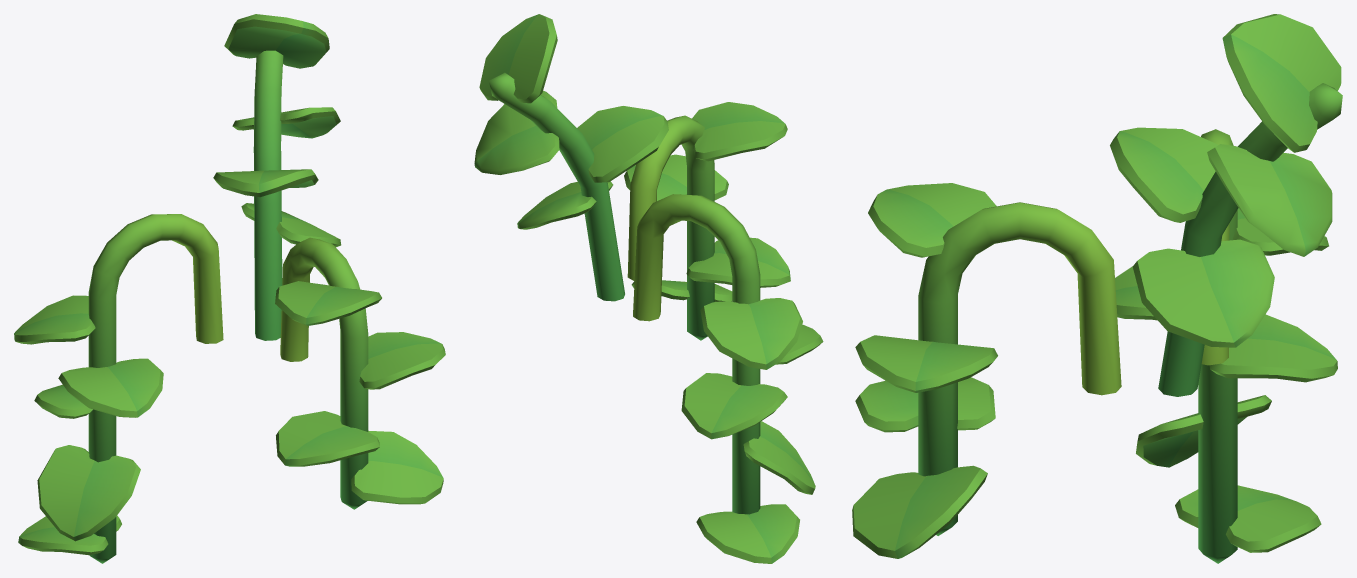
Rendered from Pothos Plant Small-QqbCvErL93.glb.
3 renders of one model, left to right at view 1: azimuth 30°, elevation 25°; view 2: azimuth 150°, elevation 25°; view 3: azimuth 270°, elevation 25°, orthographic. The views are drawn at different scales.
Parts seen in each view (by area): view 1: pothos_plant_small; view 2: pothos_plant_small; view 3: pothos_plant_small.
Part boxes in pixels (left/top/right/bottom): pothos_plant_small: left=14, top=14, right=445, bottom=563; pothos_plant_small: left=474, top=14, right=823, bottom=563; pothos_plant_small: left=852, top=14, right=1342, bottom=563.
Bounding box in the file's own units: 0.6754 × 1.01 × 0.6723.
1 material, 1 textured.
